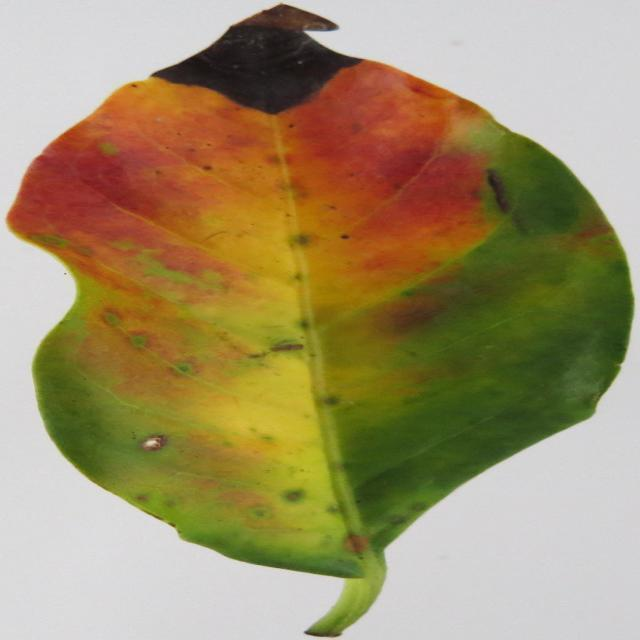DeficienciaNutricional-Fosforo: (8, 5, 630, 635)
